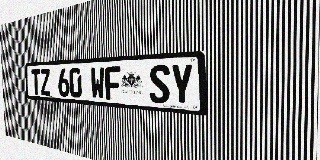0: (69, 68, 82, 98)
6: (58, 68, 70, 97)
F: (105, 66, 121, 101)
S: (149, 64, 170, 104)
T: (31, 69, 41, 95)
W: (90, 67, 105, 100)
Y: (170, 63, 193, 106)
Z: (40, 69, 51, 96)
